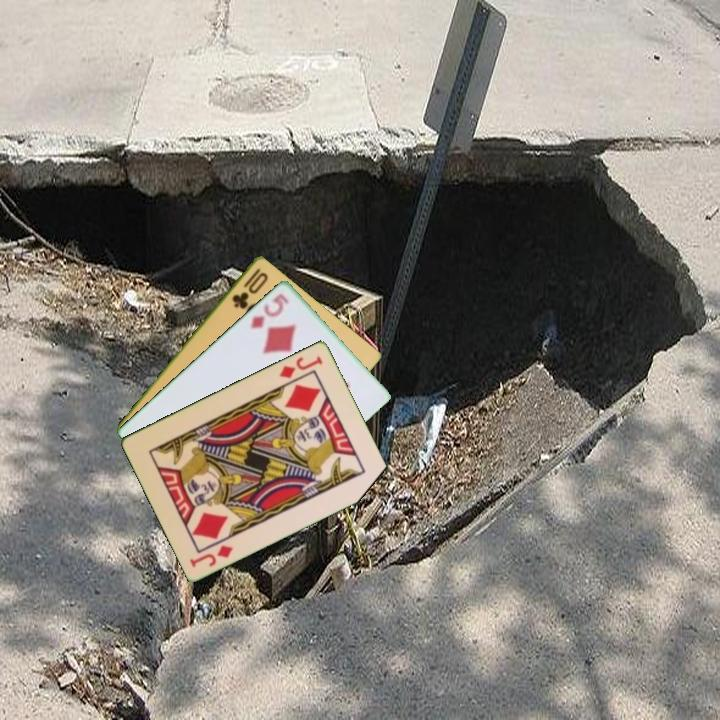10c: (228, 264, 271, 312)
5d: (247, 289, 292, 332)
Jd: (186, 541, 236, 570), (276, 352, 325, 381)
